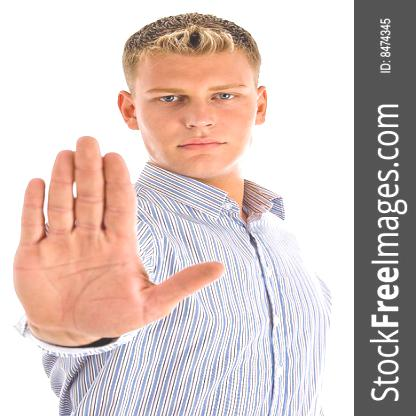Stop: (13, 131, 206, 348)
